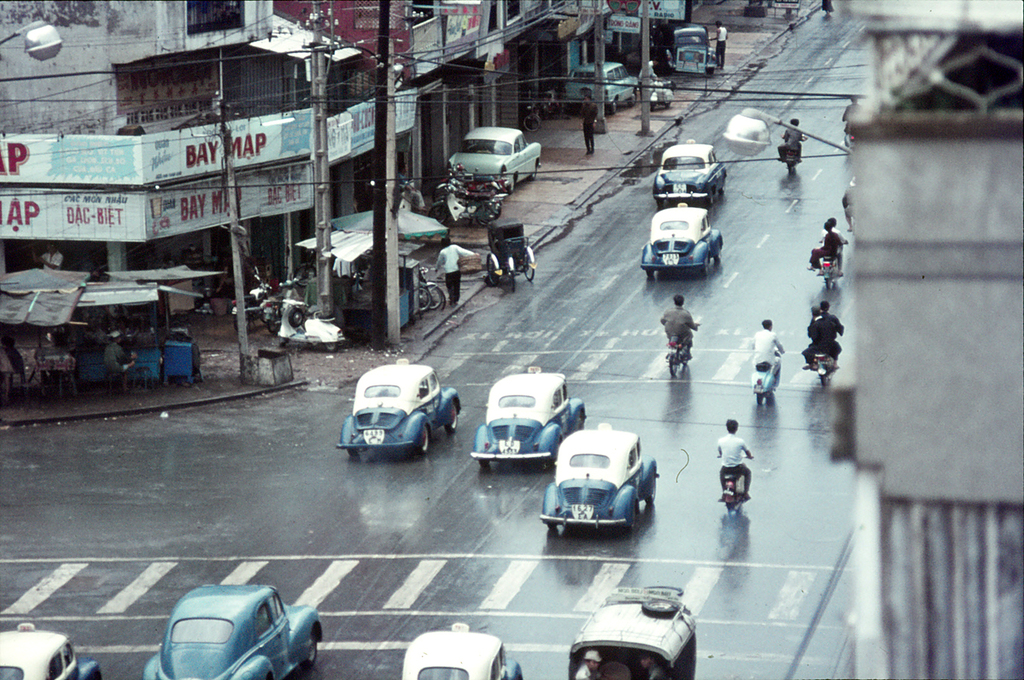Car: (145, 586, 323, 679), (334, 364, 468, 460), (532, 432, 663, 528), (472, 366, 584, 465), (399, 623, 519, 679), (448, 121, 543, 188), (0, 623, 108, 679), (643, 203, 721, 278), (650, 137, 737, 198), (563, 61, 638, 111), (670, 14, 702, 80)
